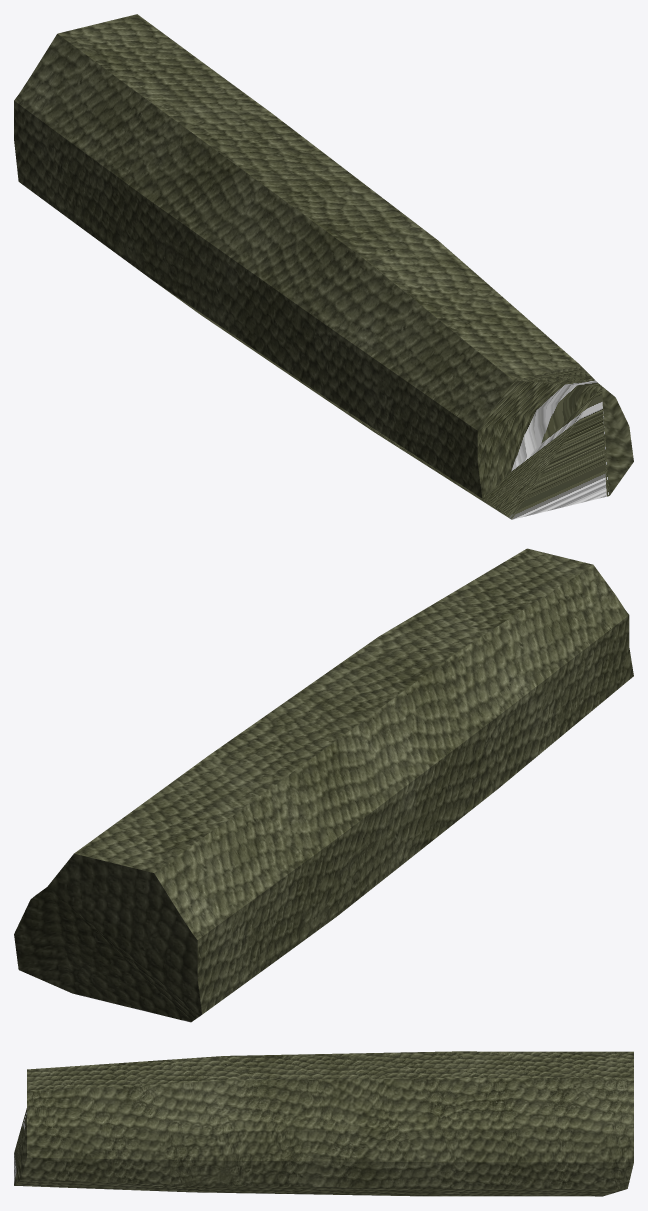
File: Stpmarche.fbx
The picture shows the model from 3 angles, top to bottom: view 1: azimuth 30°, elevation 25°; view 2: azimuth 150°, elevation 25°; view 3: azimuth 270°, elevation 25°; orthographic projection. The views are drawn at different scales.
Parts seen in each view (by area): view 1: haut_tete; view 2: haut_tete; view 3: haut_tete.
Boxes of the visible parts, box(x1,y1,x2,y2) form: haut_tete: box(14, 14, 633, 519); haut_tete: box(14, 548, 633, 1022); haut_tete: box(14, 1051, 633, 1196).
Bounding box in the file's own units: 6.29 × 5.32 × 27.1.
1 material, 1 textured.
